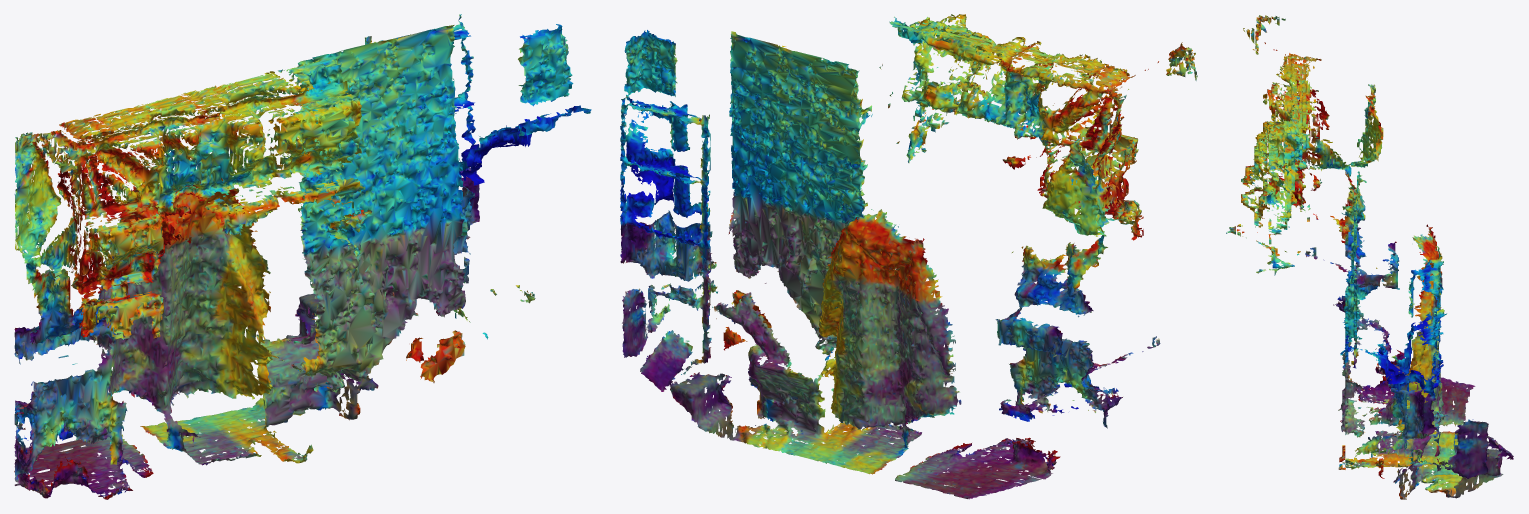
File: mesh_iter_0002.obj
The picture shows the model from 3 angles, left to right: view 1: azimuth 30°, elevation 25°; view 2: azimuth 150°, elevation 25°; view 3: azimuth 270°, elevation 25°; orthographic projection. The views are drawn at different scales.
Bounding box in the file's own units: 3.03 × 2.14 × 1.64.
